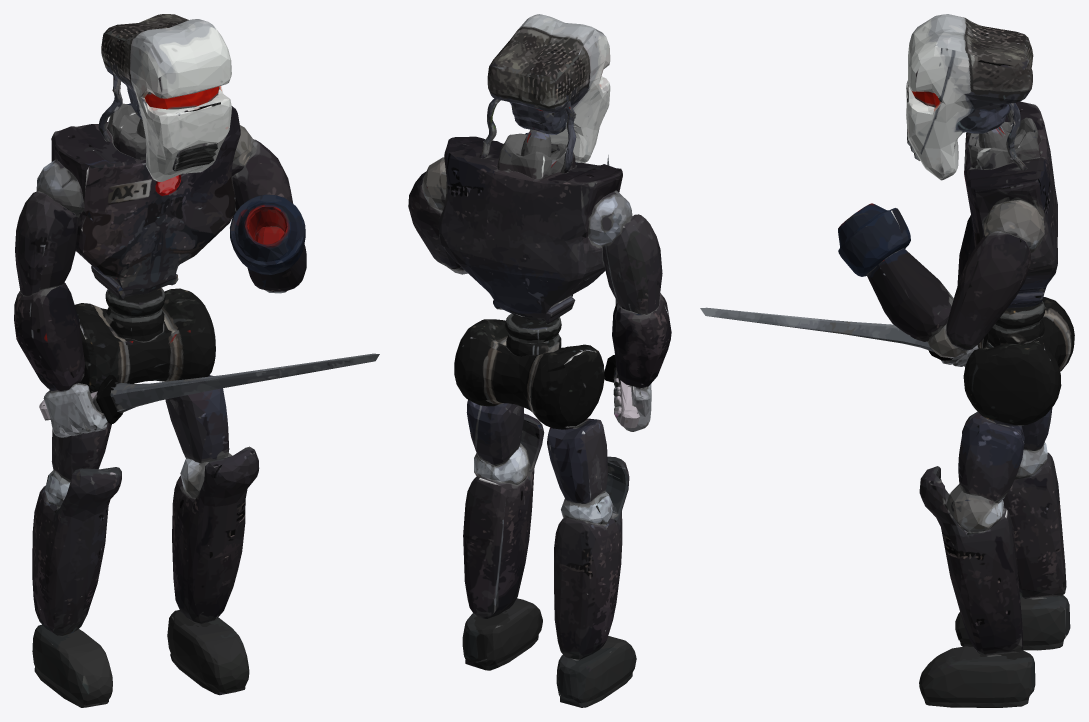
Rendered from LOStest.dae.
3 views of the same model, side by side, from view 1: azimuth 30°, elevation 25°; view 2: azimuth 150°, elevation 25°; view 3: azimuth 270°, elevation 25° (orthographic). The views are drawn at different scales.
Parts seen in each view (by area): view 1: AX-1; view 2: AX-1; view 3: AX-1.
Part boxes in pixels (x1,y1,x2,y2): AX-1: [14, 14, 379, 707]; AX-1: [408, 14, 671, 707]; AX-1: [700, 14, 1074, 707].
Size of the model in its own units: 13.17 by 16.38 by 31.46.
Materials: 1 (1 with a texture image).
